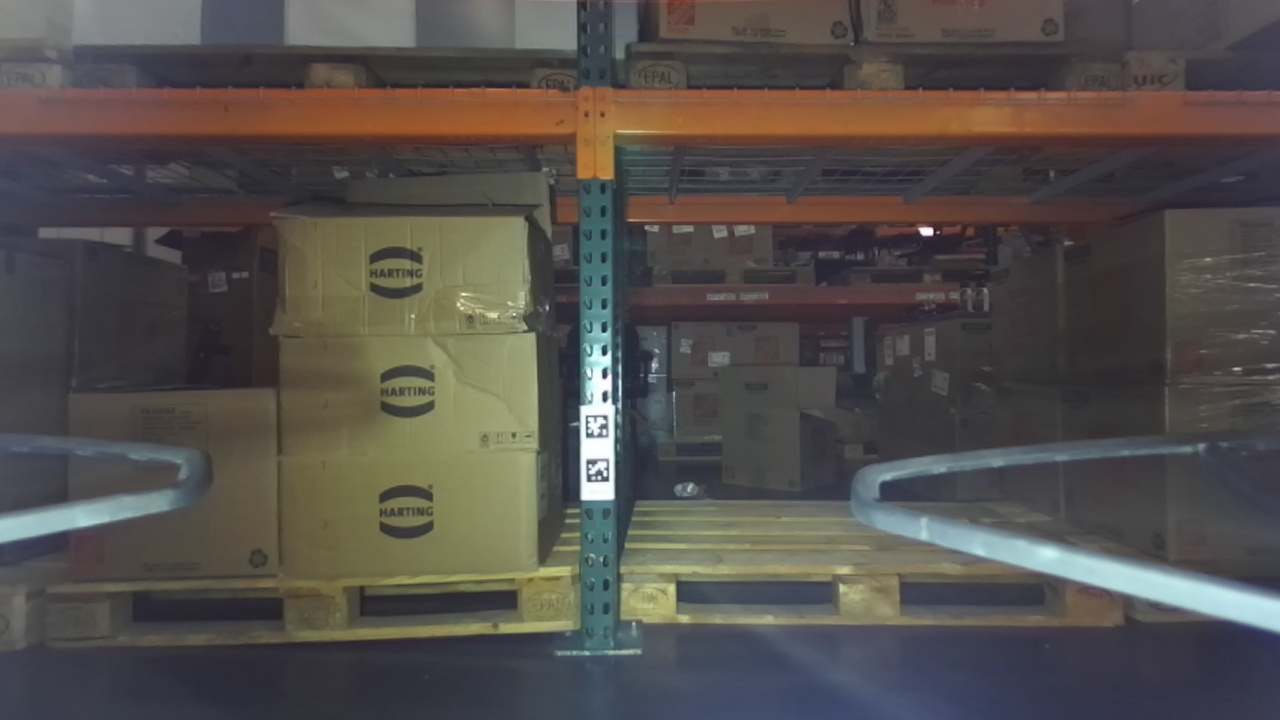box: (55, 370, 298, 593), (258, 186, 559, 341), (263, 443, 569, 590), (248, 322, 558, 454)
